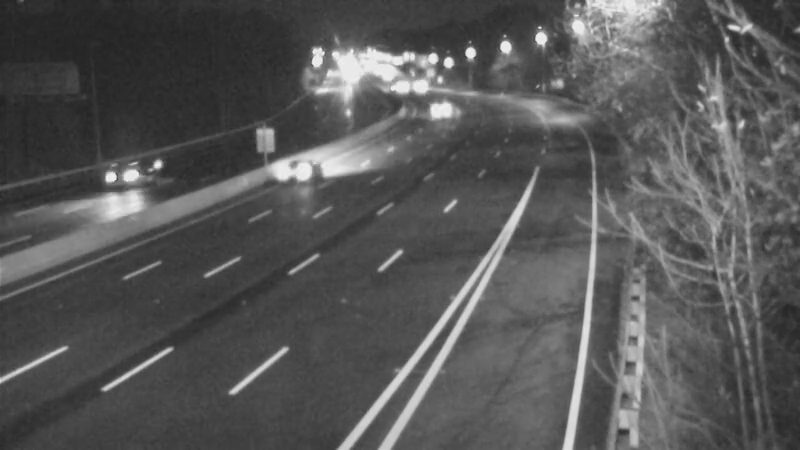vehicle: (263, 129, 343, 209), (88, 130, 168, 210), (415, 85, 465, 135)
